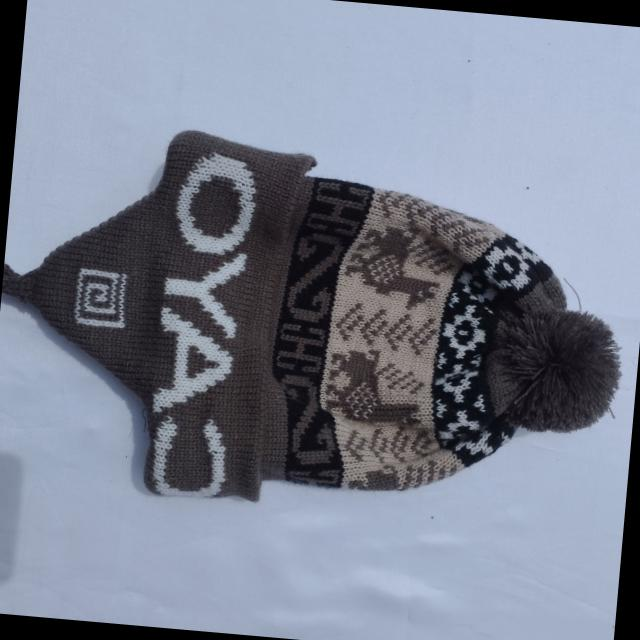Gorro: (0, 113, 639, 535)
